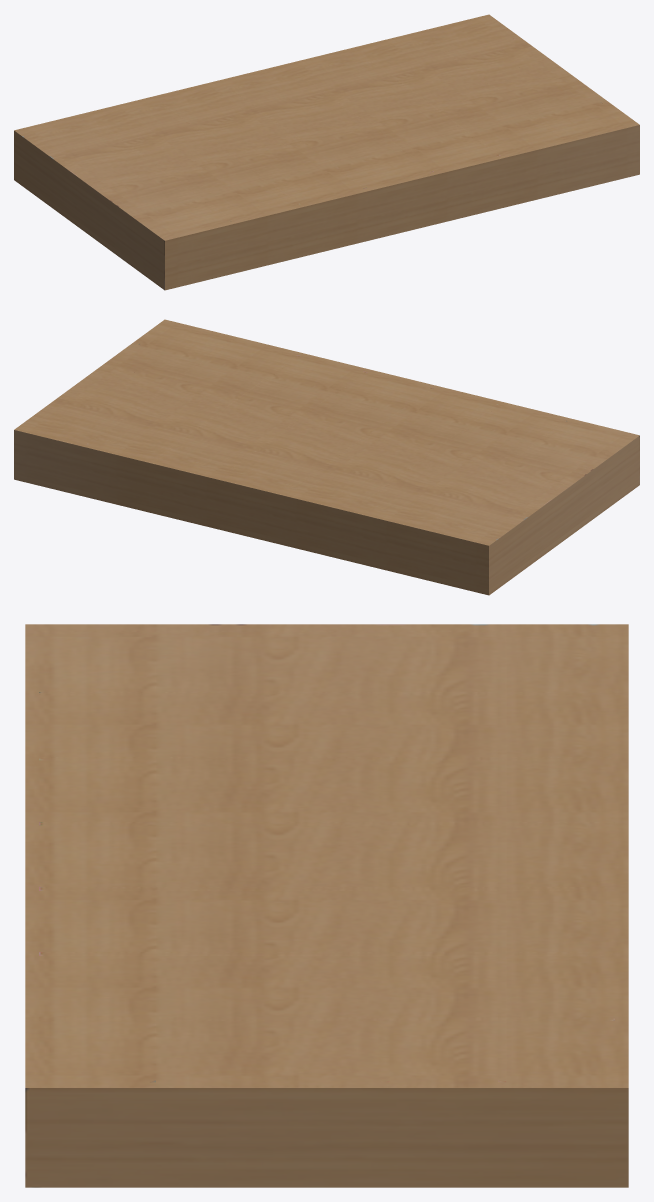
Rendered from raw_model.glb.
The picture shows the model from 3 angles, top to bottom: view 1: azimuth 30°, elevation 25°; view 2: azimuth 150°, elevation 25°; view 3: azimuth 270°, elevation 25°; orthographic projection. The views are drawn at different scales.
Visible parts, largest first — view 1: raw_model.013; view 2: raw_model.013; view 3: raw_model.013.
Boxes of the visible parts, box(x1,y1,x2,y2) form: raw_model.013: box(14, 14, 639, 290); raw_model.013: box(14, 319, 639, 595); raw_model.013: box(25, 624, 628, 1187).
Bounding box in the file's own units: 4 × 0.5368 × 2.2.
Materials: 1 (1 with a texture image).
